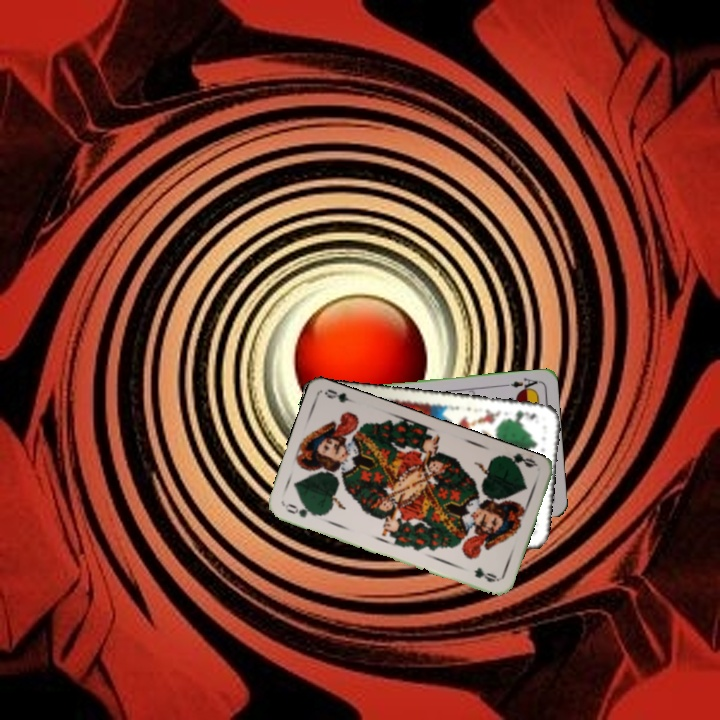EA: (501, 374, 541, 394)
GK: (504, 406, 539, 423)
GO: (499, 450, 539, 472), (281, 499, 321, 520)
